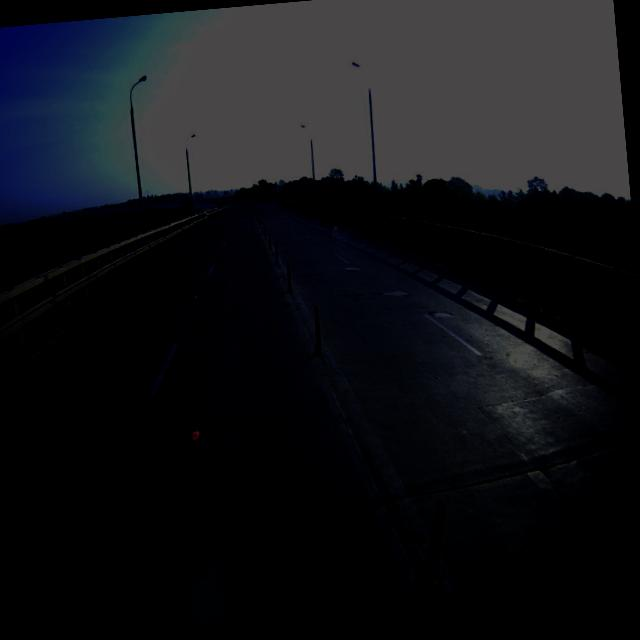road: (4, 199, 640, 640)
